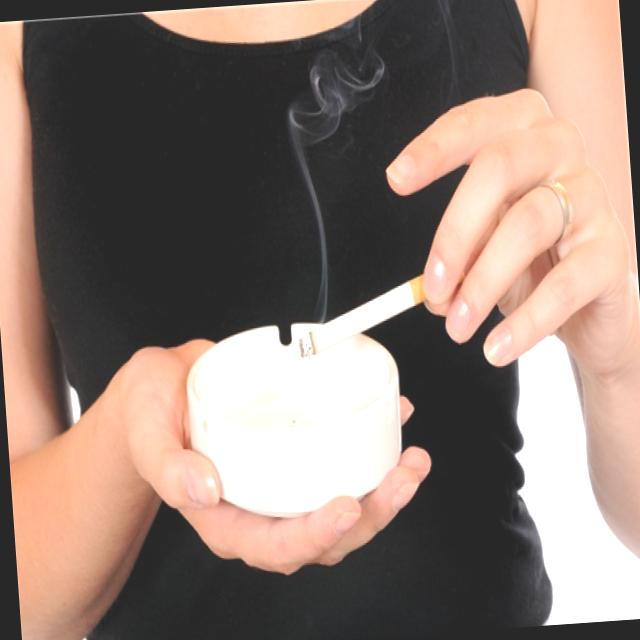cigarette: (282, 250, 452, 370)
